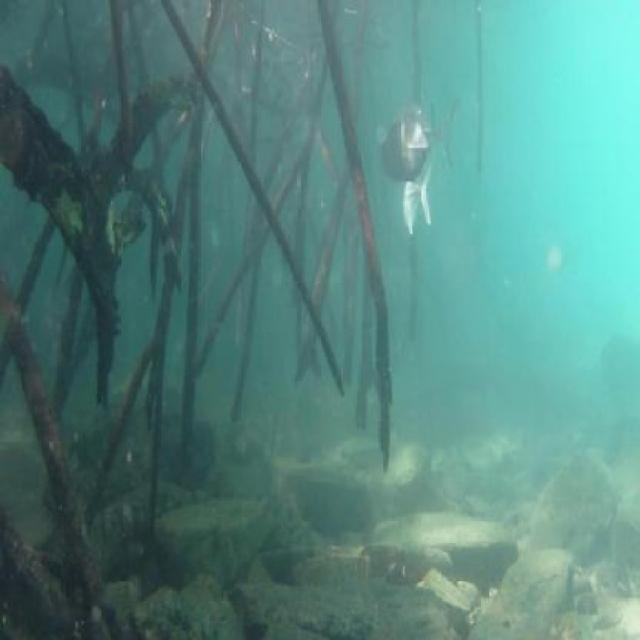Caranx_sexfasciatus_juvenile: (382, 103, 438, 188), (404, 94, 456, 178), (402, 170, 436, 242)
